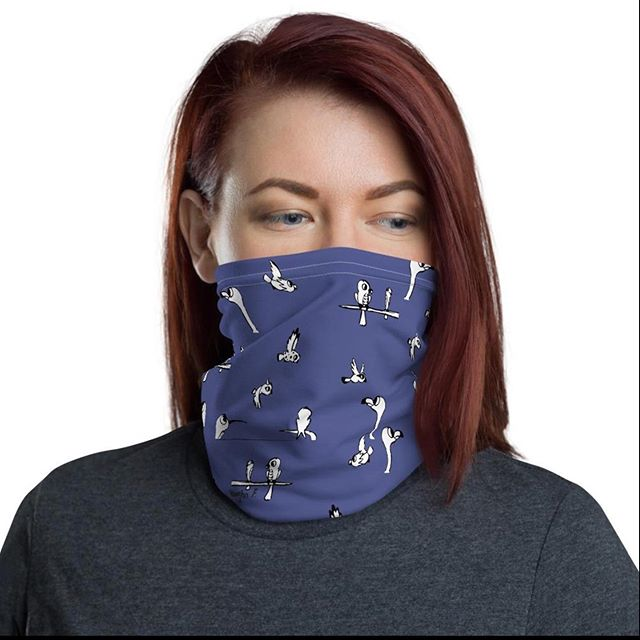homemade: (201, 255, 464, 519)
